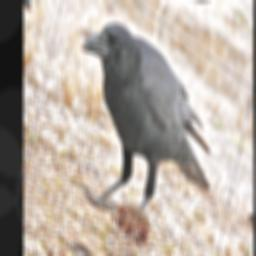Crow: (53, 0, 229, 256)
